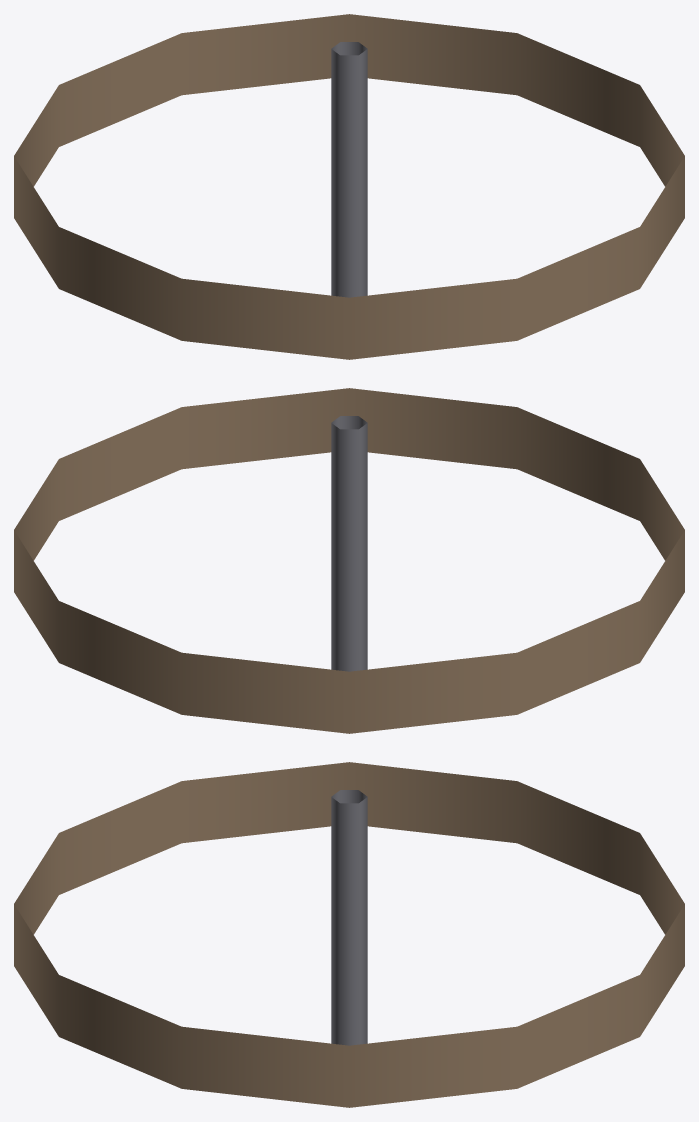
File: chola_waterwheel.glb
3 renders of one model, top to bottom at view 1: azimuth 30°, elevation 25°; view 2: azimuth 150°, elevation 25°; view 3: azimuth 270°, elevation 25°, orthographic.
Parts seen in each view (by area): view 1: WheelRim_Node, AxleShaft_Node; view 2: WheelRim_Node, AxleShaft_Node; view 3: WheelRim_Node, AxleShaft_Node.
Boxes of the visible parts, x1,y1,x2,y2 form: WheelRim_Node: [14, 14, 684, 359]; AxleShaft_Node: [331, 42, 367, 297]; WheelRim_Node: [14, 388, 684, 733]; AxleShaft_Node: [331, 416, 367, 671]; WheelRim_Node: [14, 762, 684, 1107]; AxleShaft_Node: [331, 790, 367, 1045].
Size of the model in its own units: 4.4 by 2 by 4.4.
